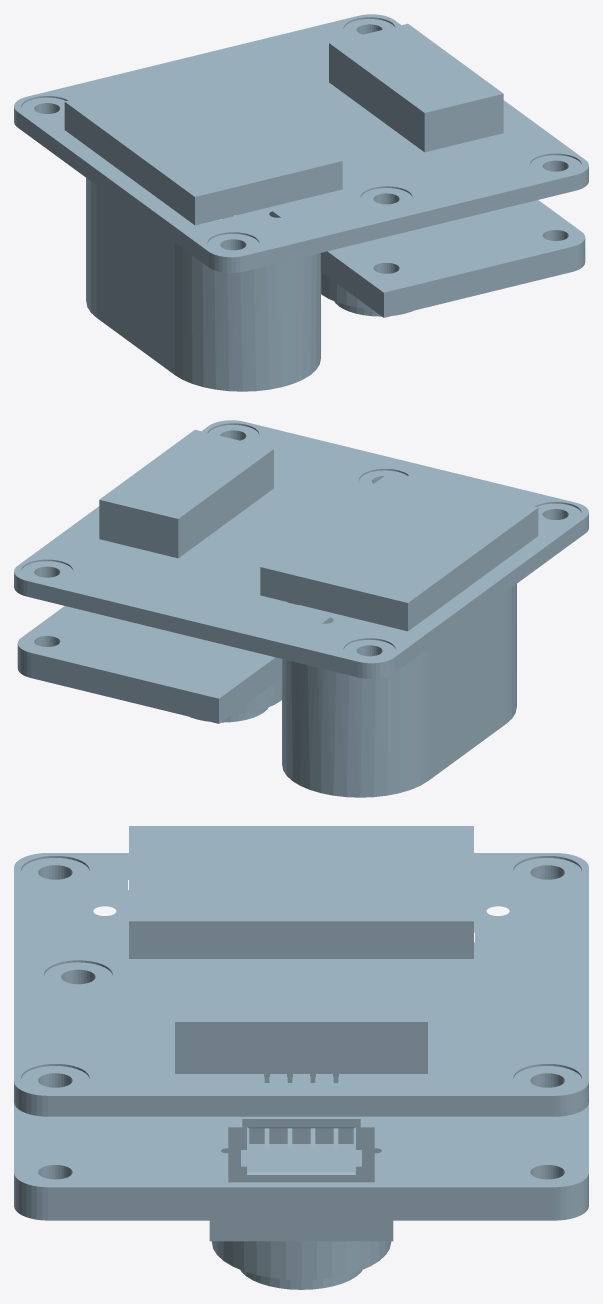
File: rx-receiver.glb
3 renders of one model, top to bottom at view 1: azimuth 30°, elevation 25°; view 2: azimuth 150°, elevation 25°; view 3: azimuth 270°, elevation 25°, orthographic. The views are drawn at different scales.
Visible parts, largest first — view 1: world; view 2: world; view 3: world.
Part boxes in pixels (left/top/right/bottom): world: left=14, top=14, right=588, bottom=391; world: left=14, top=420, right=588, bottom=797; world: left=14, top=826, right=588, bottom=1289.
Size of the model in its own units: 0.025 by 0.0139 by 0.025.
